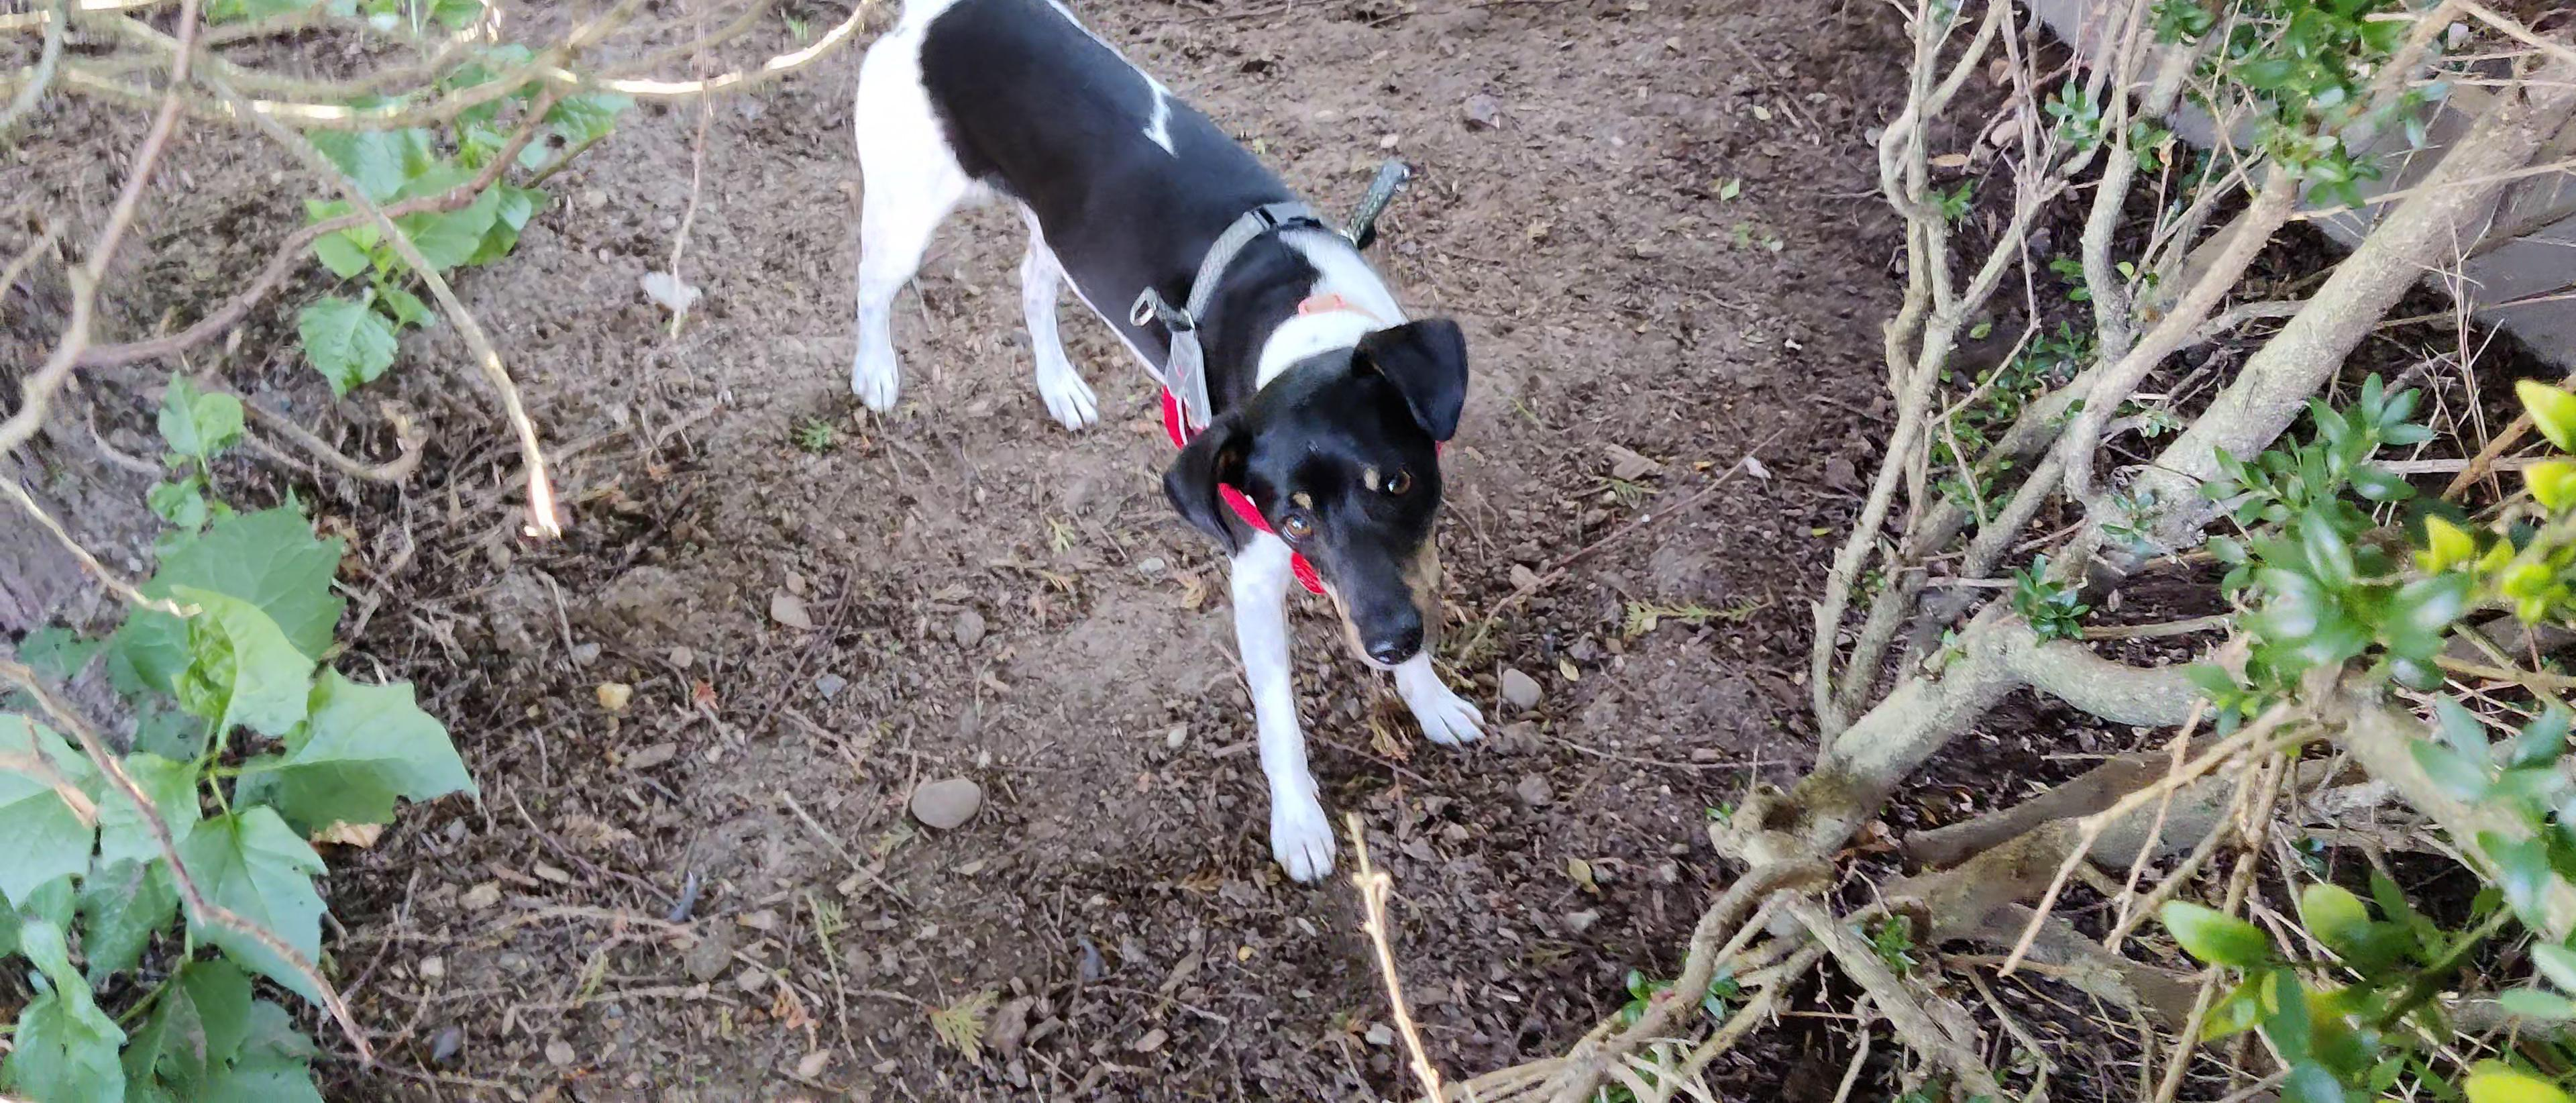Dog: (833, 0, 1500, 894)
